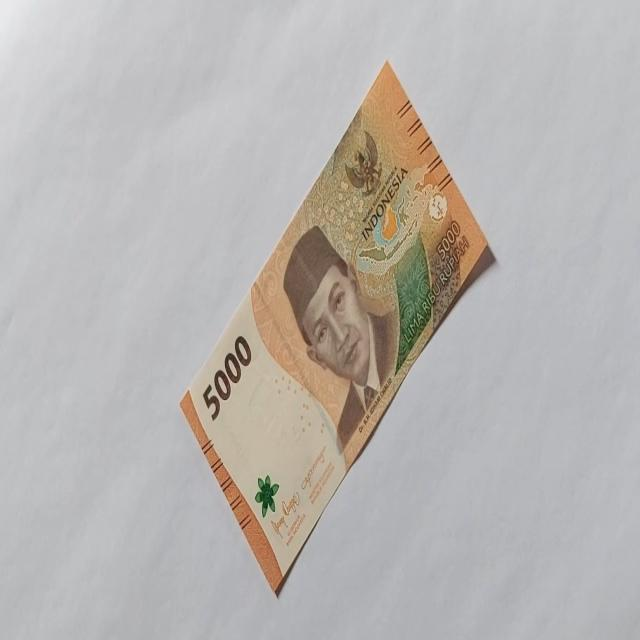lima ribu rupiah: (180, 61, 497, 599), (281, 222, 399, 452)
